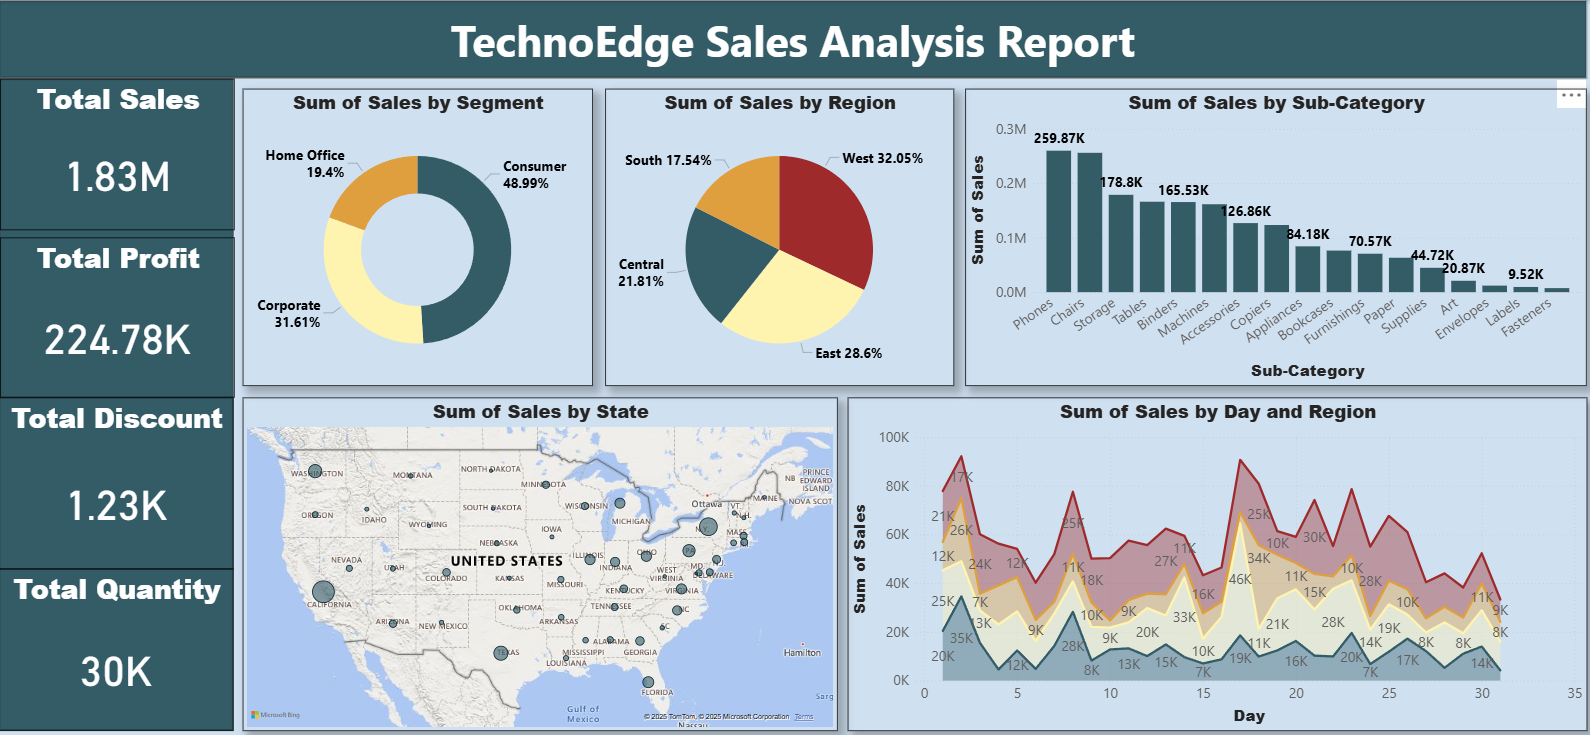

Layout of this report page (visuals, bound fields, positions):
{"tool":"powerbi","page":{"name":"Page 1","canvas":[2080,970],"ordinal":0},"visuals":[{"type":"shape","box":[0,0,2065,101.7],"z":0},{"type":"shape","box":[0,101.7,305,848.3],"z":1000},{"type":"card","title":"Total Sales","fields":{"Values":["TechnoEdge Monthy Sales Data 2020-2022.Sales"]},"box":[1.7,101.7,305,196.7],"z":2000},{"type":"card","title":"Total Profit","fields":{"Values":["TechnoEdge Monthy Sales Data 2020-2022.Profit"]},"box":[1.7,308.3,305,208.3],"z":3000},{"type":"card","title":"Total Discount","fields":{"Values":["TechnoEdge Monthy Sales Data 2020-2022.Discount"]},"box":[0,516.7,305,223.3],"z":4000},{"type":"card","title":"Total Quantity","fields":{"Values":["TechnoEdge Monthy Sales Data 2020-2022.Quantity"]},"box":[0,740,305,210],"z":5000},{"type":"stackedAreaChart","fields":{"Category":["TechnoEdge Monthy Sales Data 2020-2022.Order Date.Variation.Date Hierarchy.Year","TechnoEdge Monthy Sales Data 2020-2022.Order Date.Variation.Date Hierarchy.Quarter","TechnoEdge Monthy Sales Data 2020-2022.Order Date.Variation.Date Hierarchy.Month","TechnoEdge Monthy Sales Data 2020-2022.Order Date.Variation.Date Hierarchy.Day"],"Y":["TechnoEdge Monthy Sales Data 2020-2022.Sales"],"Series":["TechnoEdge Monthy Sales Data 2020-2022.Region"]},"box":[1103.3,516.7,961.7,433.3],"z":6000},{"type":"map","fields":{"Category":["TechnoEdge Monthy Sales Data 2020-2022.State"],"Size":["TechnoEdge Monthy Sales Data 2020-2022.Sales"]},"box":[316.7,516.7,773.3,433.3],"z":7000},{"type":"clusteredColumnChart","fields":{"Category":["TechnoEdge Monthy Sales Data 2020-2022.Sub-Category"],"Y":["TechnoEdge Monthy Sales Data 2020-2022.Sales"]},"box":[1256.7,115,808.3,386.7],"z":8000},{"type":"pieChart","fields":{"Category":["TechnoEdge Monthy Sales Data 2020-2022.Region"],"Y":["TechnoEdge Monthy Sales Data 2020-2022.Sales"]},"box":[788.3,115,453.3,386.7],"z":9000},{"type":"donutChart","fields":{"Category":["TechnoEdge Monthy Sales Data 2020-2022.Segment"],"Y":["TechnoEdge Monthy Sales Data 2020-2022.Sales"]},"box":[316.7,115,455,386.7],"z":10000}]}

Visuals, with their boxes in screenshot pixels (x1, y1, x2, y2), scaled from the page's 2080x970 canvas onto the 1590x735 screenshot:
shape: {"left": 0, "top": 0, "right": 1579, "bottom": 77}
shape: {"left": 0, "top": 77, "right": 233, "bottom": 720}
"Total Sales" card: {"left": 1, "top": 77, "right": 234, "bottom": 226}
"Total Profit" card: {"left": 1, "top": 234, "right": 234, "bottom": 391}
"Total Discount" card: {"left": 0, "top": 392, "right": 233, "bottom": 561}
"Total Quantity" card: {"left": 0, "top": 561, "right": 233, "bottom": 720}
stackedAreaChart - TechnoEdge Monthy Sales Data 2020-2022.Order Date.Variation.Date Hierarchy.Year x TechnoEdge Monthy Sales Data 2020-2022.Order Date.Variation.Date Hierarchy.Quarter: {"left": 843, "top": 392, "right": 1579, "bottom": 720}
map - TechnoEdge Monthy Sales Data 2020-2022.State x TechnoEdge Monthy Sales Data 2020-2022.Sales: {"left": 242, "top": 392, "right": 833, "bottom": 720}
clusteredColumnChart - TechnoEdge Monthy Sales Data 2020-2022.Sub-Category x TechnoEdge Monthy Sales Data 2020-2022.Sales: {"left": 961, "top": 87, "right": 1579, "bottom": 380}
pieChart - TechnoEdge Monthy Sales Data 2020-2022.Region x TechnoEdge Monthy Sales Data 2020-2022.Sales: {"left": 603, "top": 87, "right": 949, "bottom": 380}
donutChart - TechnoEdge Monthy Sales Data 2020-2022.Segment x TechnoEdge Monthy Sales Data 2020-2022.Sales: {"left": 242, "top": 87, "right": 590, "bottom": 380}
